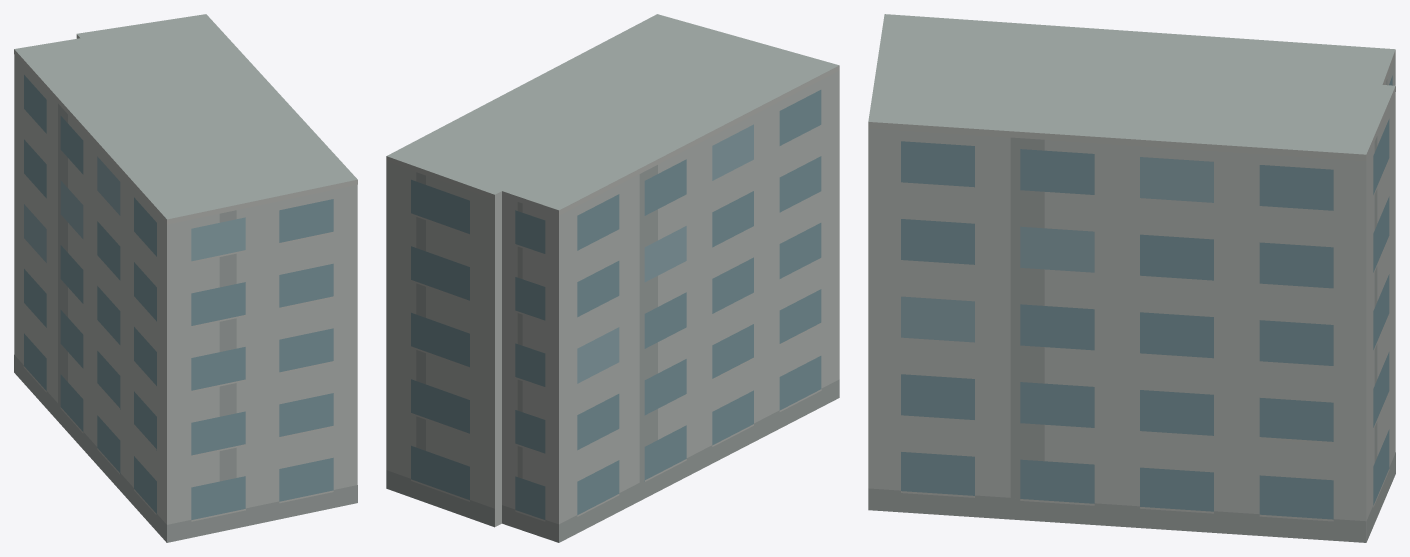
The model's file is survey-upis-32760890.glb.
3 views of the same model, side by side, from view 1: azimuth 30°, elevation 25°; view 2: azimuth 150°, elevation 25°; view 3: azimuth 270°, elevation 25° (orthographic). The views are drawn at different scales.
Parts seen in each view (by area): view 1: survey-upis-32760890.tmp; view 2: survey-upis-32760890.tmp; view 3: survey-upis-32760890.tmp.
Part boxes in pixels (x1,y1,x2,y2): survey-upis-32760890.tmp: (14, 14, 357, 542); survey-upis-32760890.tmp: (386, 14, 839, 542); survey-upis-32760890.tmp: (868, 14, 1395, 542).
Size of the model in its own units: 11.66 by 15 by 18.48.
